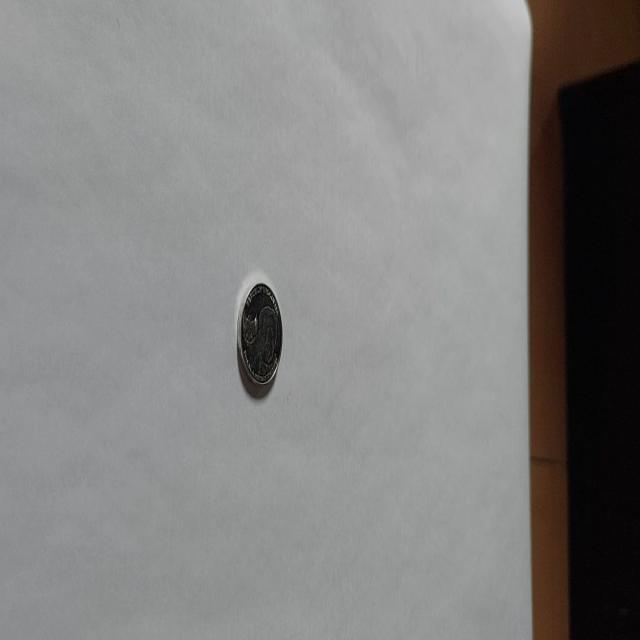seratus rupiah: (235, 280, 282, 391)
